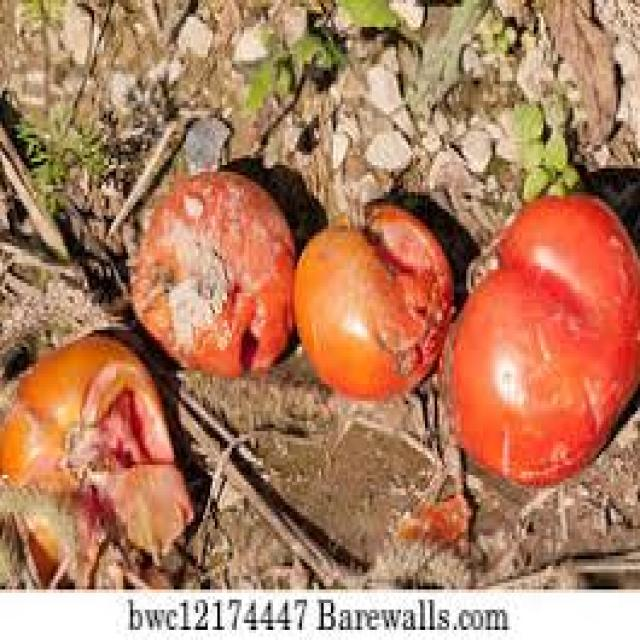organic waste: (437, 186, 638, 488), (0, 326, 188, 586), (128, 165, 295, 371), (289, 202, 452, 394)
